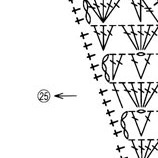enseble_chain: (115, 17, 145, 55), (117, 78, 145, 112), (133, 106, 158, 141), (117, 110, 142, 143), (78, 0, 104, 29), (125, 51, 148, 82), (92, 0, 120, 24), (100, 54, 120, 83), (127, 0, 148, 25), (135, 81, 154, 108), (95, 24, 113, 51), (53, 88, 80, 105), (135, 24, 151, 50), (138, 139, 151, 158), (37, 89, 51, 103)
fan: (92, 0, 109, 24)
